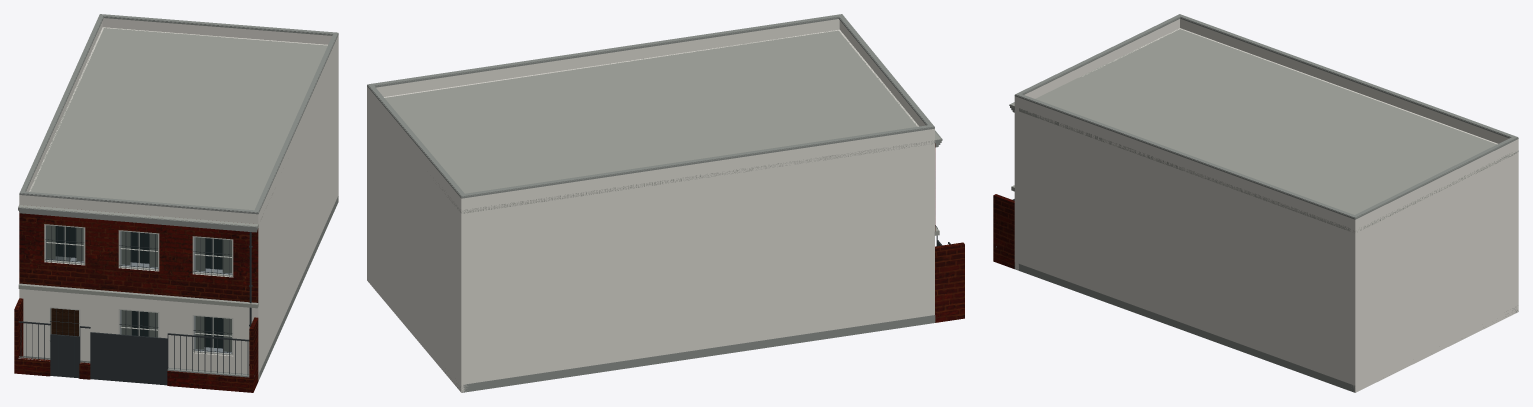
Rendered from building.glb.
3 views of the same model, side by side, from view 1: azimuth 30°, elevation 25°; view 2: azimuth 150°, elevation 25°; view 3: azimuth 270°, elevation 25° (orthographic). The views are drawn at different scales.
Visible parts, largest first — view 1: roof/main:0/roof_slab#0001, main:0/edge0/z0/main:0/edge0/z0/coating_0_0_0, main:0/edge1/z0/main:0/edge1/z0/wall_0_0/core0, main:0/edge0/z0/main:0/edge0/z0/wall_0_0/core0, roof/main:0/parapet#0001, site/fence/0/garage_door#0001, roof/main:0/parapet_cap#0002, roof/main:0/parapet_cap#0001, main:0/edge0/z0/floor_slab#0001, site/fence/0/boundary_base#0003, main:0/edge0/z0/opening_u0.94_v4.15/glazing#0001, main:0/edge0/z0/opening_u6.50_v4.15/glazing#0001 (+27 smaller); view 2: main:0/edge3/z0/main:0/edge3/z0/wall_0_0, roof/main:0/roof_slab#0001, main:0/edge2/z0/main:0/edge2/z0/wall_0_0/core0, roof/main:0/parapet#0001, roof/main:0/parapet_cap#0002, main:0/edge3/z0/plinth#0001, roof/main:0/parapet_cap#0001, site/fence/2/wall#0001, main:0/edge1/z0/main:0/edge1/z0/wall_0_0/core0; view 3: main:0/edge1/z0/main:0/edge1/z0/wall_0_0/core0, roof/main:0/roof_slab#0001, main:0/edge2/z0/main:0/edge2/z0/wall_0_0/core0, roof/main:0/parapet#0001, roof/main:0/parapet_cap#0002, main:0/edge1/z0/plinth#0001, roof/main:0/parapet_cap#0001, site/fence/1/wall#0001, main:0/edge0/z0/main:0/edge0/z0/wall_0_0/clip1, main:0/edge2/z0/main:0/edge2/z0/wall_0_0/clip1, main:0/edge1/z0/main:0/edge1/z0/wall_0_0/clip1, main:0/edge3/z0/main:0/edge3/z0/wall_0_0.
Boxes of the visible parts, <box> form: roof/main:0/roof_slab#0001: <box>29,27,327,219</box>; main:0/edge0/z0/main:0/edge0/z0/coating_0_0_0: <box>19,212,258,302</box>; main:0/edge1/z0/main:0/edge1/z0/wall_0_0/core0: <box>253,45,338,372</box>; main:0/edge0/z0/main:0/edge0/z0/wall_0_0/core0: <box>19,230,252,373</box>; roof/main:0/parapet#0001: <box>19,18,338,223</box>; site/fence/0/garage_door#0001: <box>90,332,167,385</box>; roof/main:0/parapet_cap#0002: <box>19,14,337,212</box>; roof/main:0/parapet_cap#0001: <box>19,15,338,214</box>; main:0/edge0/z0/floor_slab#0001: <box>18,283,258,308</box>; site/fence/0/boundary_base#0003: <box>167,371,253,392</box>; main:0/edge0/z0/opening_u0.94_v4.15/glazing#0001: <box>46,225,83,262</box>; main:0/edge0/z0/opening_u6.50_v4.15/glazing#0001: <box>194,237,231,274</box>; main:0/edge3/z0/main:0/edge3/z0/wall_0_0: <box>461,140,934,392</box>; roof/main:0/roof_slab#0001: <box>385,30,934,213</box>; main:0/edge2/z0/main:0/edge2/z0/wall_0_0/core0: <box>367,98,461,392</box>; roof/main:0/parapet#0001: <box>367,19,934,209</box>; roof/main:0/parapet_cap#0002: <box>367,14,934,196</box>; main:0/edge3/z0/plinth#0001: <box>462,315,934,392</box>; roof/main:0/parapet_cap#0001: <box>367,17,934,198</box>; site/fence/2/wall#0001: <box>935,242,964,322</box>; main:0/edge1/z0/main:0/edge1/z0/wall_0_0/core0: <box>384,30,838,97</box>; main:0/edge1/z0/main:0/edge1/z0/wall_0_0/core0: <box>1019,108,1355,385</box>; roof/main:0/roof_slab#0001: <box>1019,29,1518,232</box>; main:0/edge2/z0/main:0/edge2/z0/wall_0_0/core0: <box>1355,149,1518,392</box>; roof/main:0/parapet#0001: <box>1014,18,1518,229</box>; roof/main:0/parapet_cap#0002: <box>1015,14,1517,217</box>; main:0/edge1/z0/plinth#0001: <box>1014,262,1355,392</box>; roof/main:0/parapet_cap#0001: <box>1014,17,1518,219</box>; site/fence/1/wall#0001: <box>993,194,1014,268</box>; main:0/edge0/z0/main:0/edge0/z0/wall_0_0/clip1: <box>1014,106,1018,270</box>; main:0/edge2/z0/main:0/edge2/z0/wall_0_0/clip1: <box>1351,228,1355,391</box>; main:0/edge1/z0/main:0/edge1/z0/wall_0_0/clip1: <box>1355,228,1358,392</box>; main:0/edge3/z0/main:0/edge3/z0/wall_0_0: <box>1180,28,1497,144</box>.
Size of the model in its own units: 17.85 by 6.99 by 18.69.
10 materials, 2 textured.
